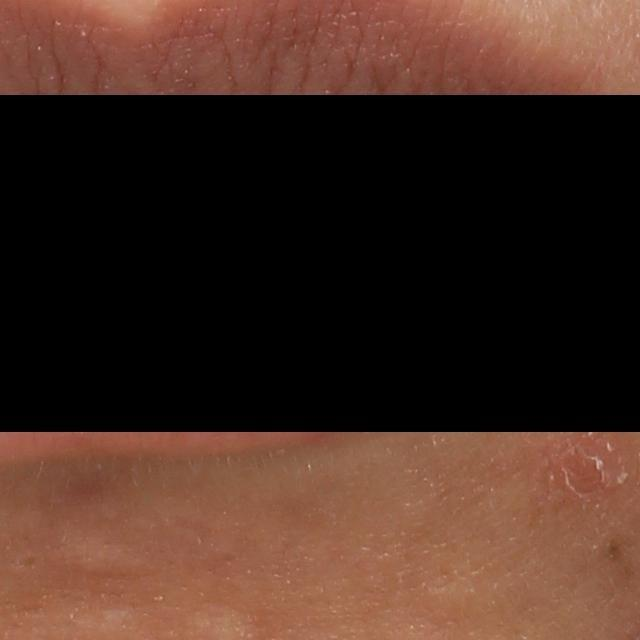hypertrophic_scar: (49, 533, 167, 582)
